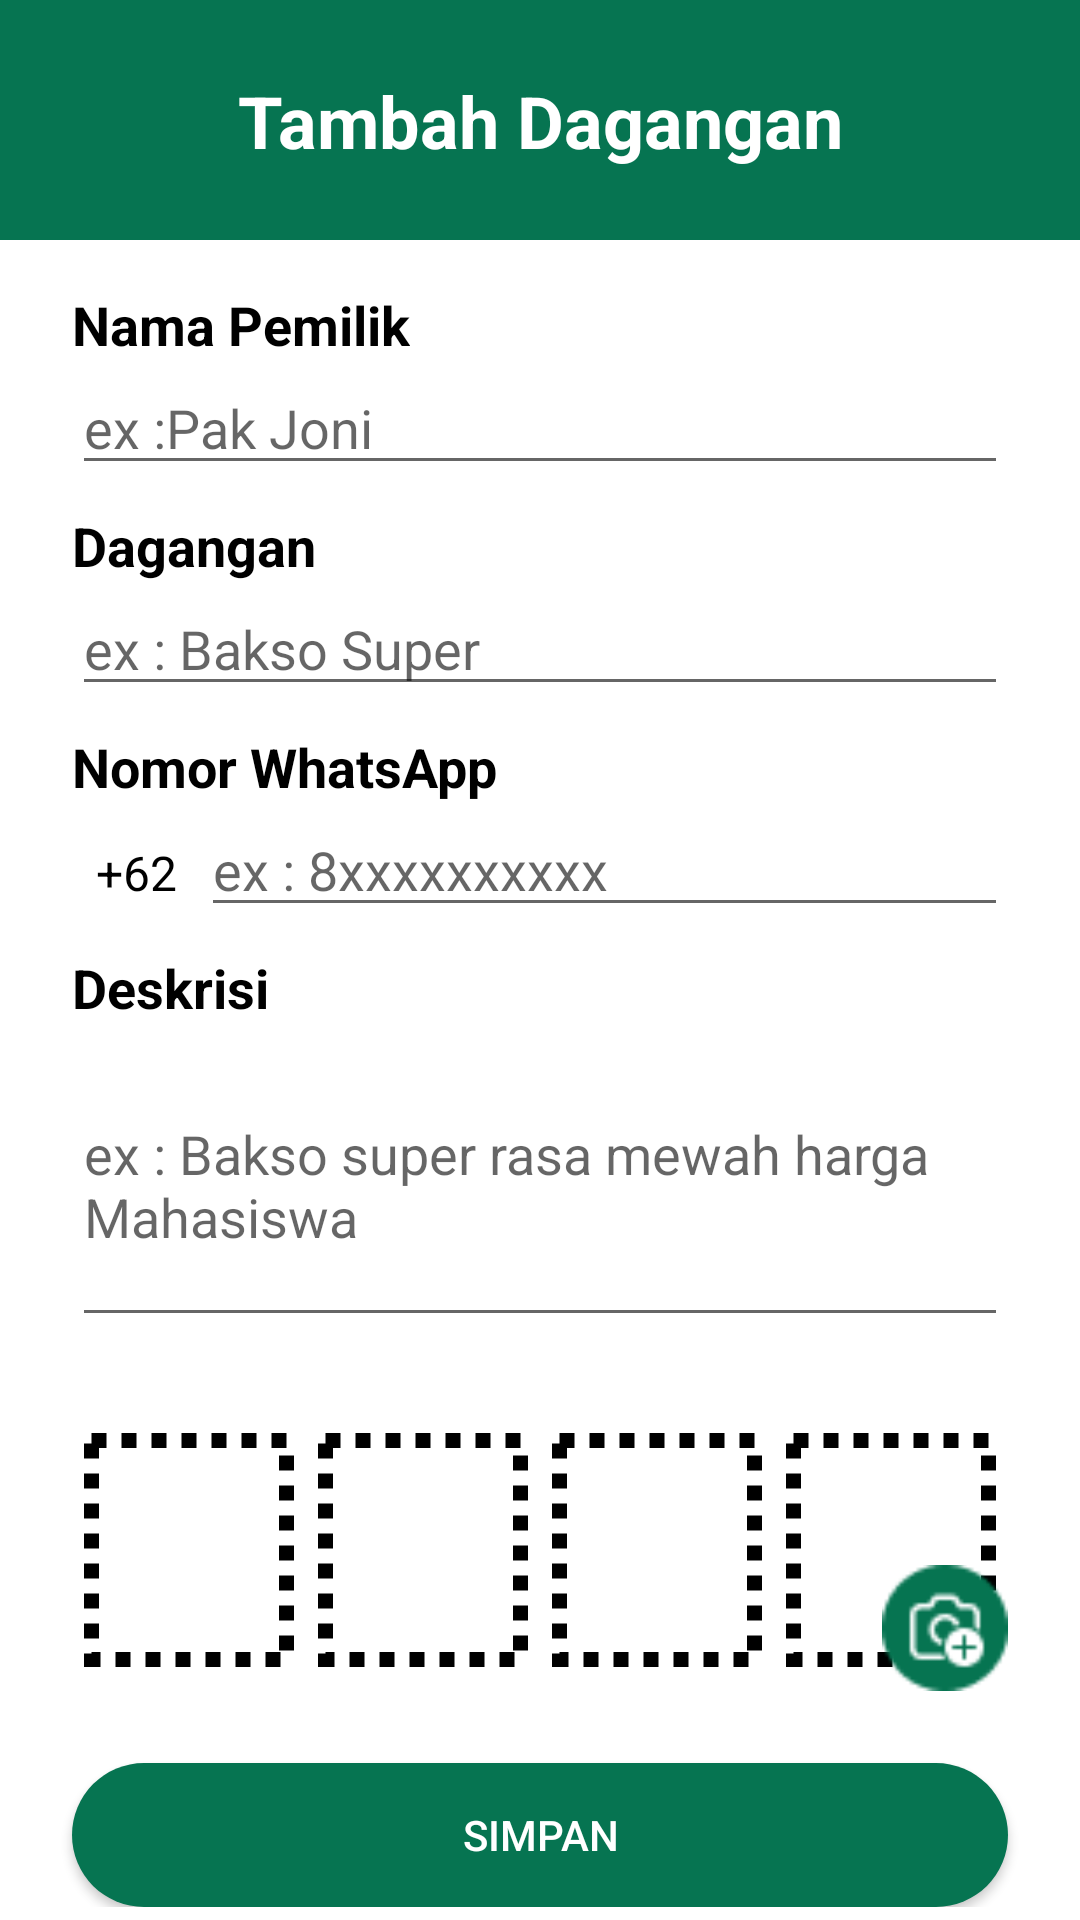

Named icons in this screenshot (1080 x 1920) and their bounding boxes, (x1, y1, x2, y2):
cam: (882, 1565, 1008, 1691)
